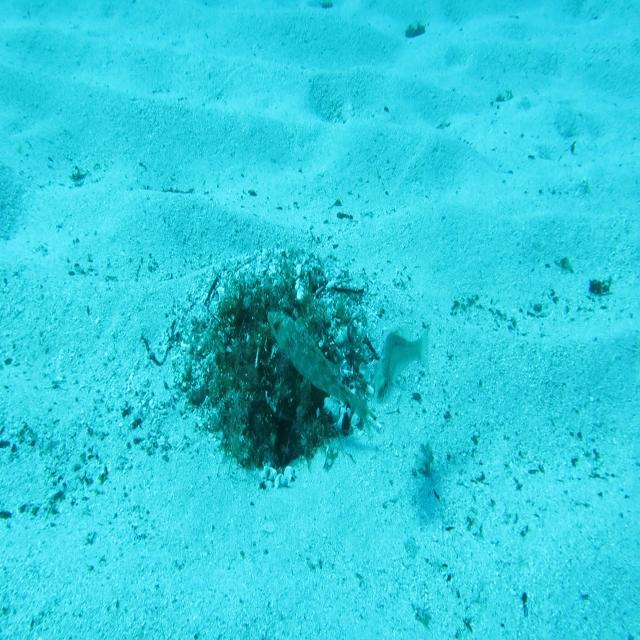FAN: (266, 306, 370, 434)
core_nest: (247, 294, 294, 340)
female: (371, 323, 434, 407)
nest: (165, 244, 387, 496)
vegetation: (405, 21, 427, 41)
